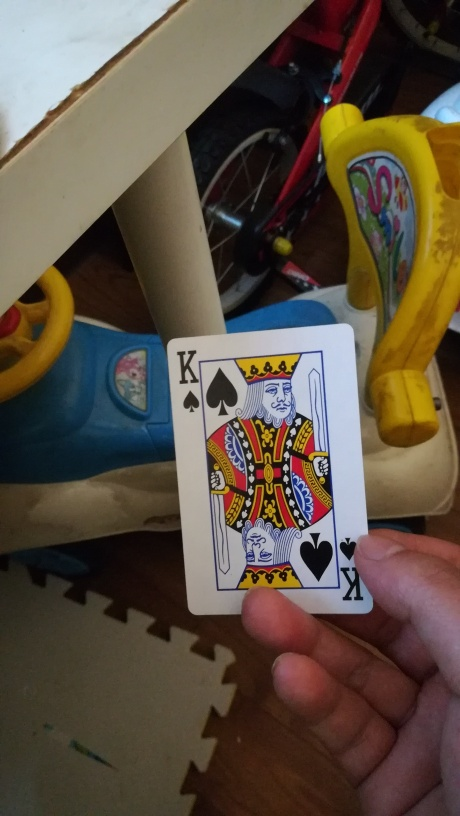ht k: (163, 323, 381, 618)
